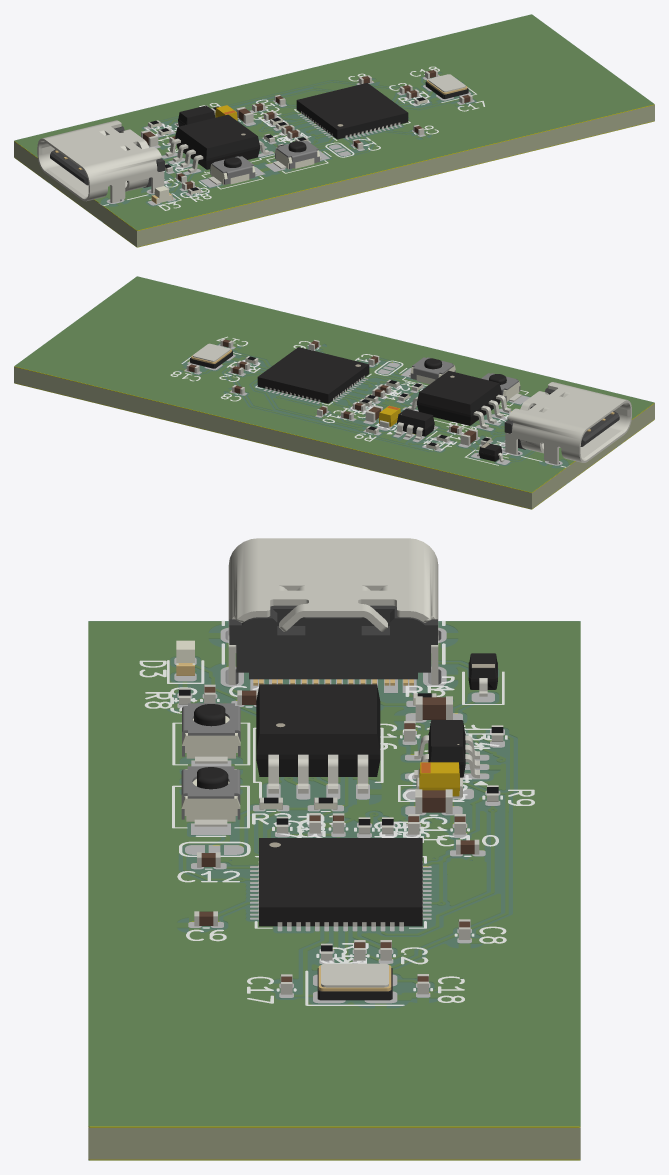
File: pico-blocks.glb
The picture shows the model from 3 angles, top to bottom: view 1: azimuth 30°, elevation 25°; view 2: azimuth 150°, elevation 25°; view 3: azimuth 270°, elevation 25°; orthographic projection. The views are drawn at different scales.
Parts seen in each view (by area): view 1: Board, RP2040 core, USB-C power, 3.3 V regulator, LED; view 2: Board, RP2040 core, USB-C power, 3.3 V regulator; view 3: Board, RP2040 core, USB-C power, 3.3 V regulator, LED.
Part boxes in pixels (<box>): Board: <box>14,14,654,247</box>; RP2040 core: <box>148,69,472,189</box>; USB-C power: <box>37,120,172,202</box>; 3.3 V regulator: <box>141,105,253,146</box>; LED: <box>151,186,200,203</box>; Board: <box>14,276,654,509</box>; RP2040 core: <box>186,338,522,449</box>; USB-C power: <box>477,382,631,464</box>; 3.3 V regulator: <box>365,405,477,445</box>; Board: <box>88,620,580,1160</box>; RP2040 core: <box>181,684,503,1000</box>; USB-C power: <box>228,538,497,705</box>; 3.3 V regulator: <box>404,696,479,813</box>; LED: <box>176,640,194,704</box>.
Size of the model in its own units: 0.0522 by 0.00495 by 0.021.
